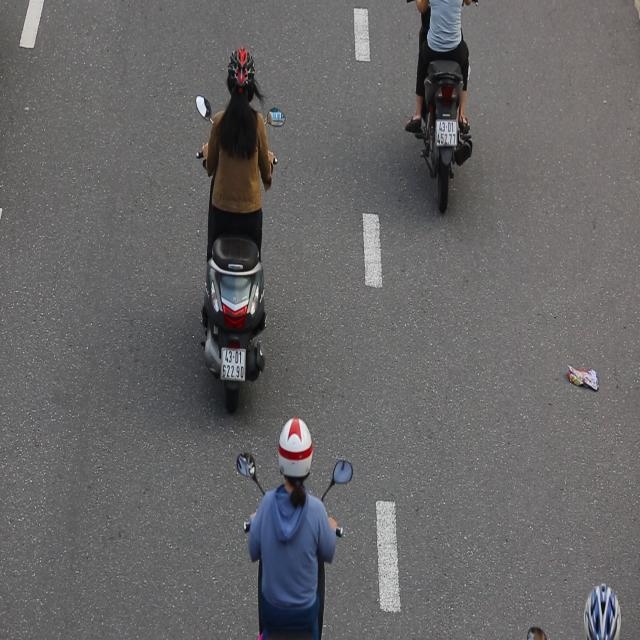motorbike: (190, 39, 284, 415)
